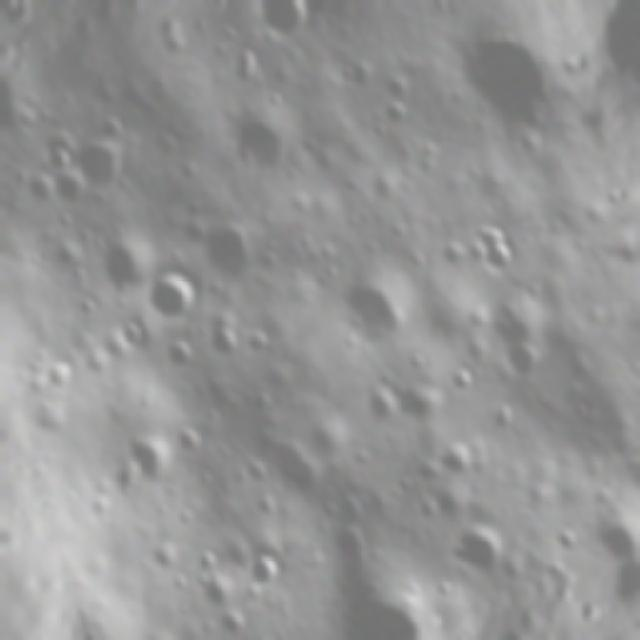crater: (463, 20, 568, 129), (334, 262, 415, 360), (224, 107, 290, 181), (196, 210, 261, 284), (260, 427, 328, 493), (444, 518, 516, 580), (578, 498, 640, 568), (115, 426, 180, 489), (137, 261, 198, 325), (96, 226, 161, 286), (71, 132, 131, 196), (246, 0, 325, 46), (476, 217, 522, 277), (494, 337, 548, 385), (195, 309, 240, 356), (358, 384, 404, 427), (14, 165, 57, 210), (325, 526, 373, 566), (433, 436, 476, 478), (81, 335, 121, 380), (36, 131, 76, 174), (169, 415, 209, 457), (242, 547, 282, 588), (228, 46, 264, 91), (548, 519, 586, 559), (144, 537, 182, 577), (109, 308, 146, 348), (40, 352, 75, 393), (442, 357, 482, 392), (144, 123, 179, 162), (47, 167, 81, 207), (196, 570, 230, 610), (182, 542, 221, 576), (326, 489, 362, 525), (243, 380, 280, 414), (236, 320, 270, 355), (162, 331, 193, 367), (247, 486, 279, 520), (484, 401, 518, 433), (621, 447, 640, 503), (329, 56, 365, 85), (433, 238, 464, 270), (46, 203, 77, 234), (377, 99, 409, 127), (376, 72, 409, 99), (68, 291, 98, 318), (238, 454, 265, 481), (463, 240, 488, 268), (217, 20, 241, 46), (597, 181, 618, 208), (366, 118, 392, 139), (183, 194, 202, 217), (0, 261, 9, 302), (0, 142, 2, 184)
